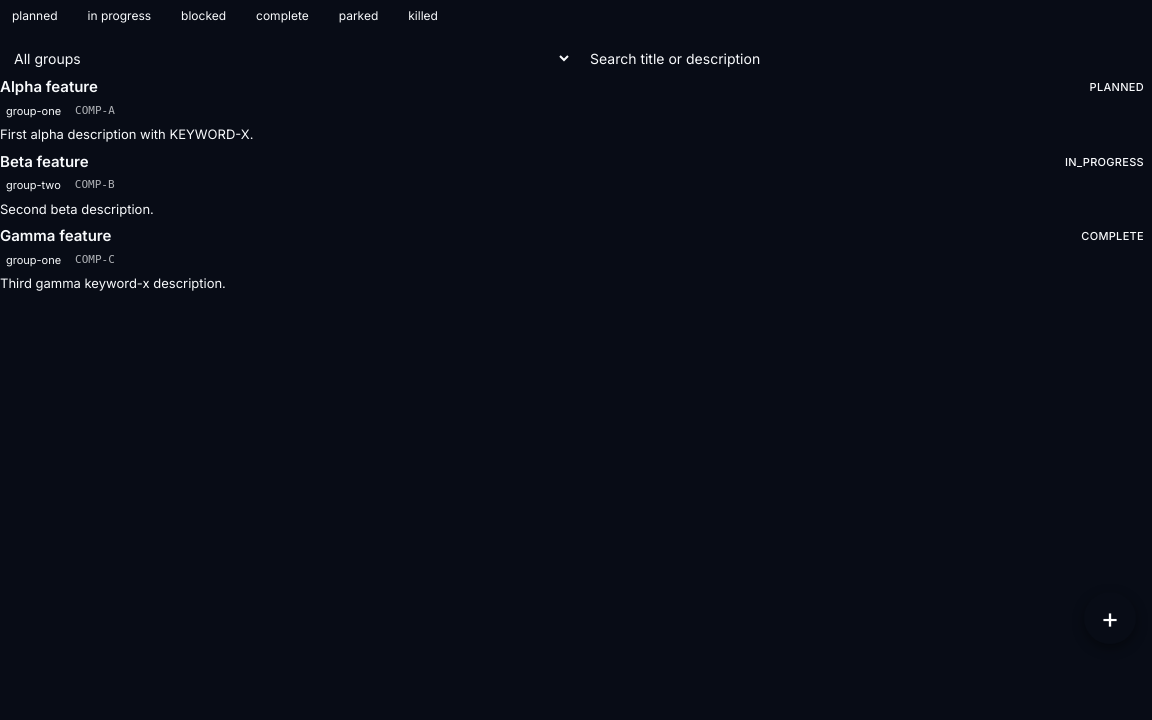
Test: <RoadmapTab> › opens detail sheet, edits group, saves with correct PATCH payload
The image size is (1152, 720).
expect the list with test id "mobile-roadmap-list" is shown: met, box 0,77 -> 1151,293
Click the button with test id "mobile-item-card-COMP-A": (49, 86) 0,77 -> 1151,144
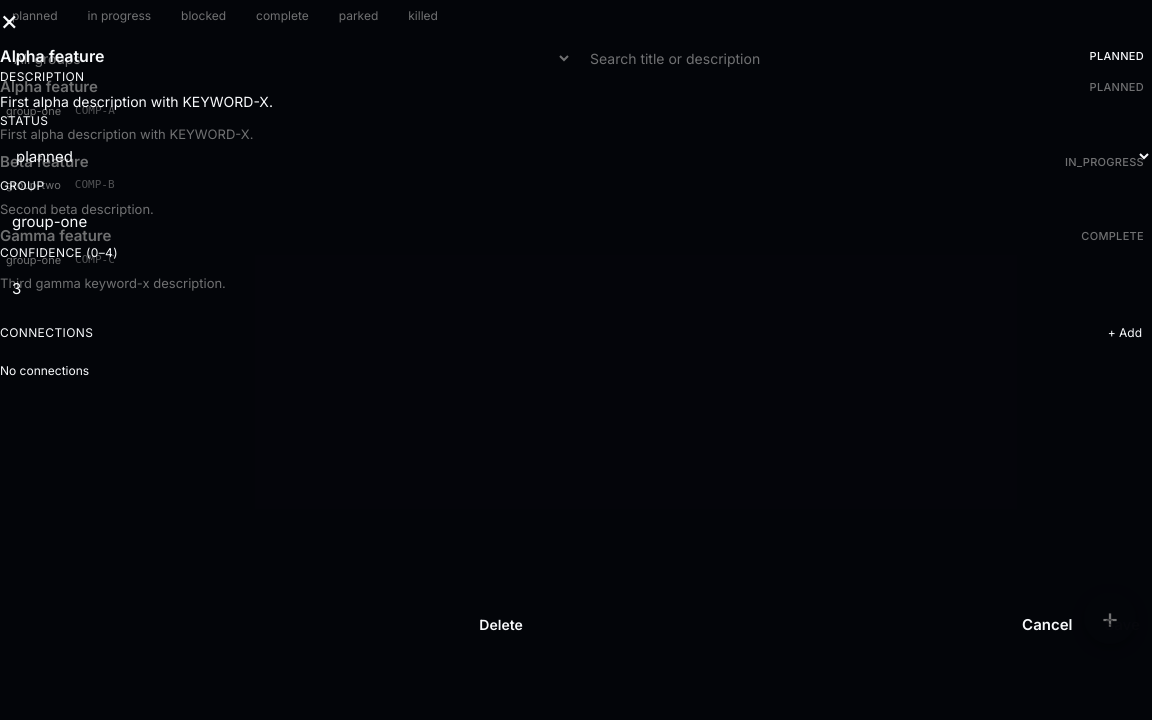
expect the dialog with test id "mobile-item-sheet" is shown: met
Replace the text in the field with test id "mobile-item-sheet-group" with "new-group": (576, 223) 0,201 -> 1151,244
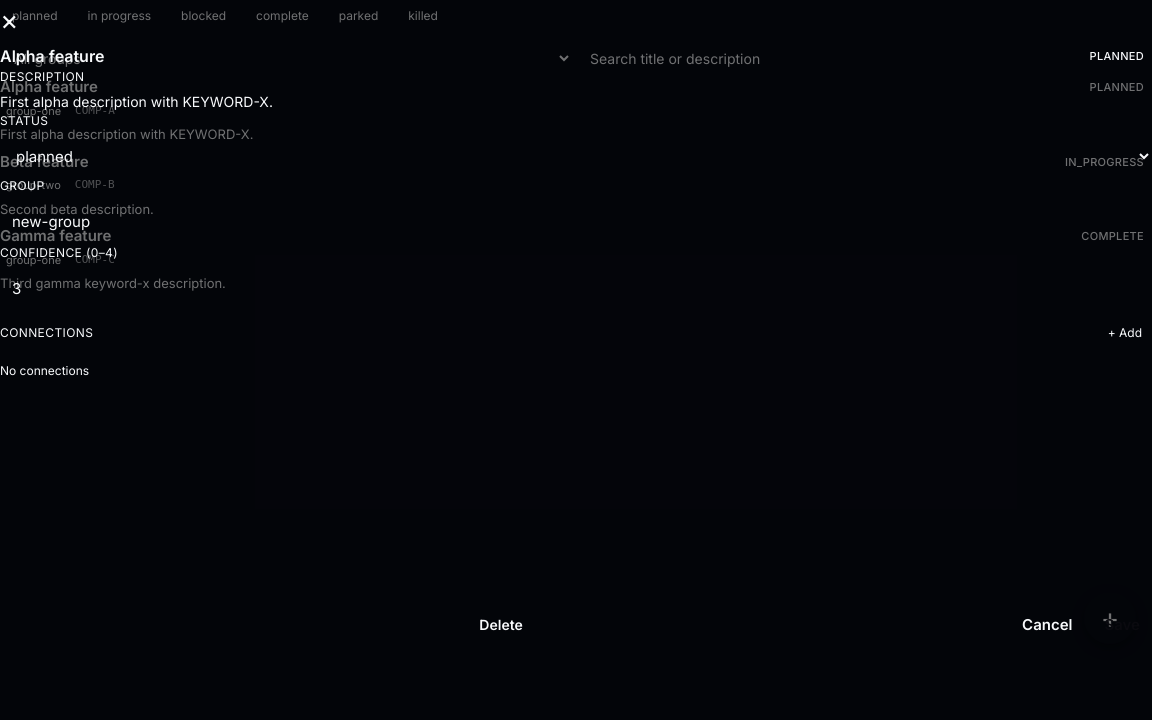
Click the button with test id "mobile-item-sheet-save": (1122, 625) 1092,602 -> 1151,648
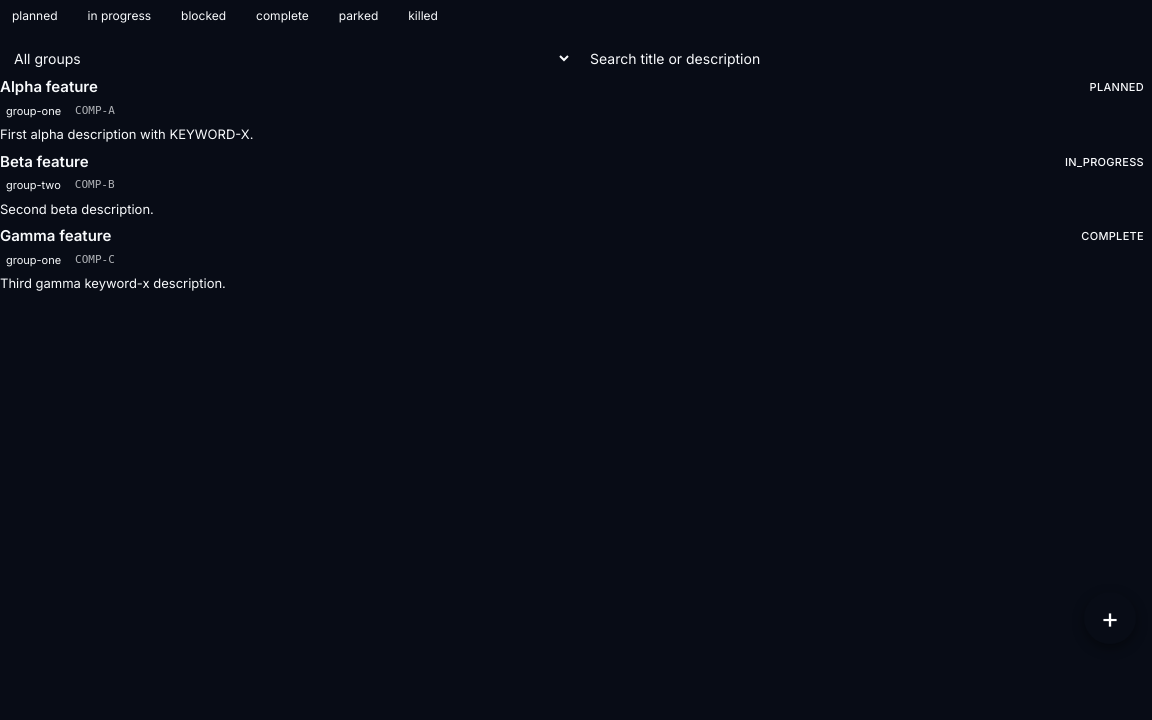
expect the dialog with test id "mobile-item-sheet" is gone: met
